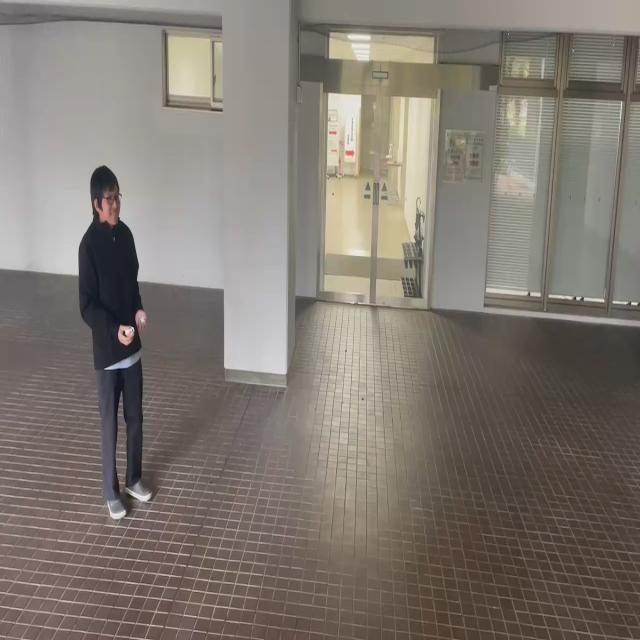paper: (123, 326, 133, 340), (126, 325, 133, 339), (139, 314, 146, 326)
